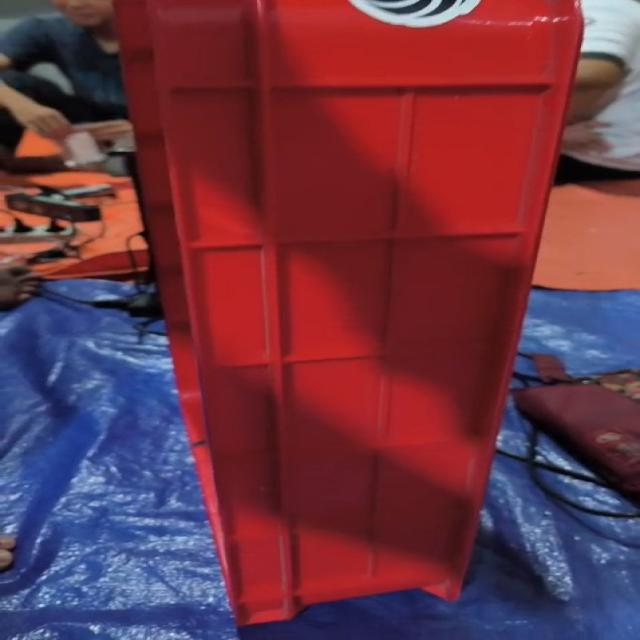red plastic box: (112, 0, 584, 626)
